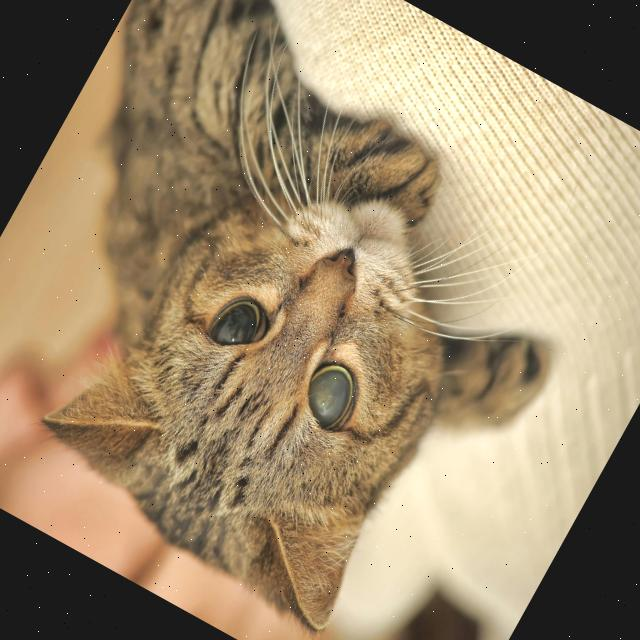cat-eye: (285, 339, 379, 442)
cat-eye-normal: (187, 269, 290, 379)
